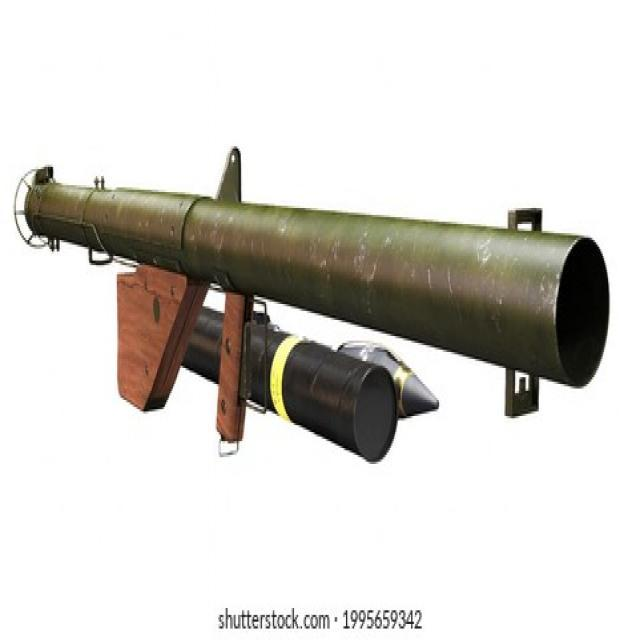rocket launcher: (13, 141, 617, 469)
